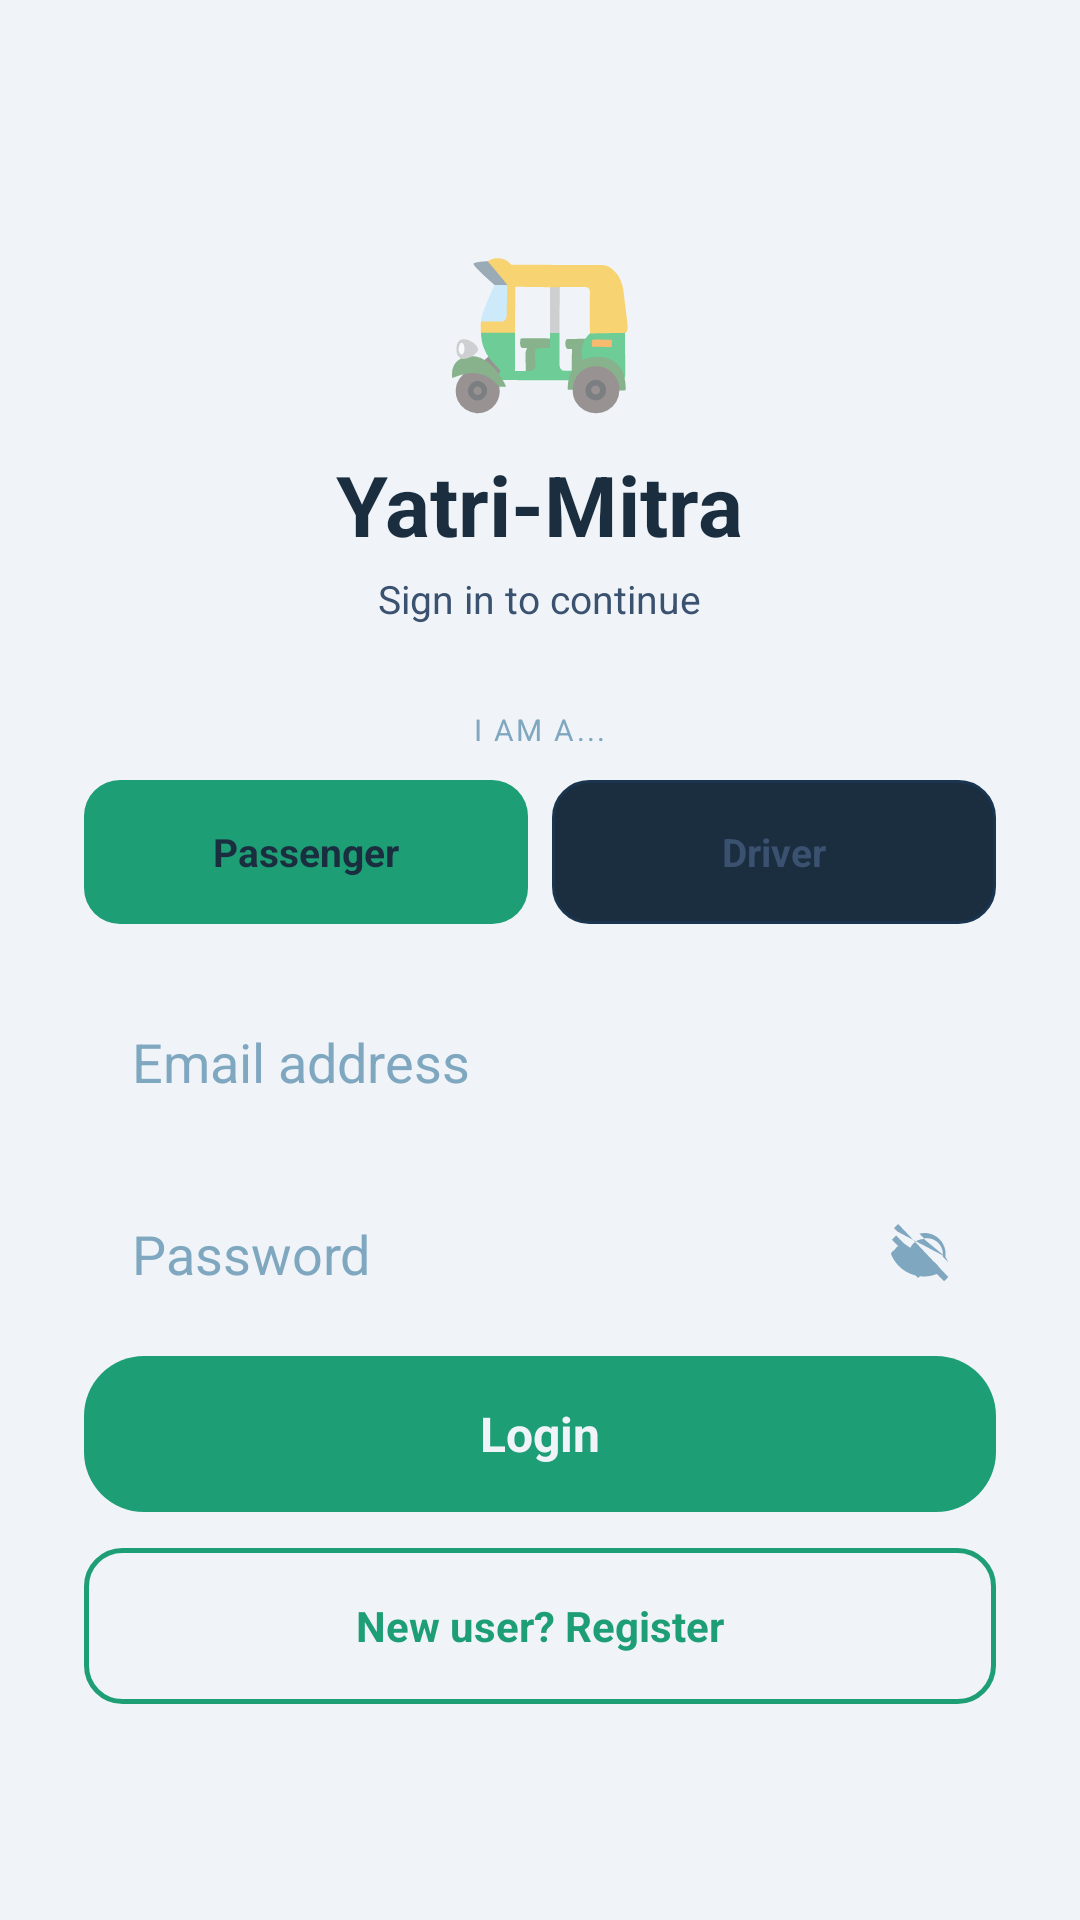

Named icons in this screenshot (1080 x 1920) and their bounding boxes, (x1, y1, x2, y2):
eye closed: (891, 1224, 948, 1281)
